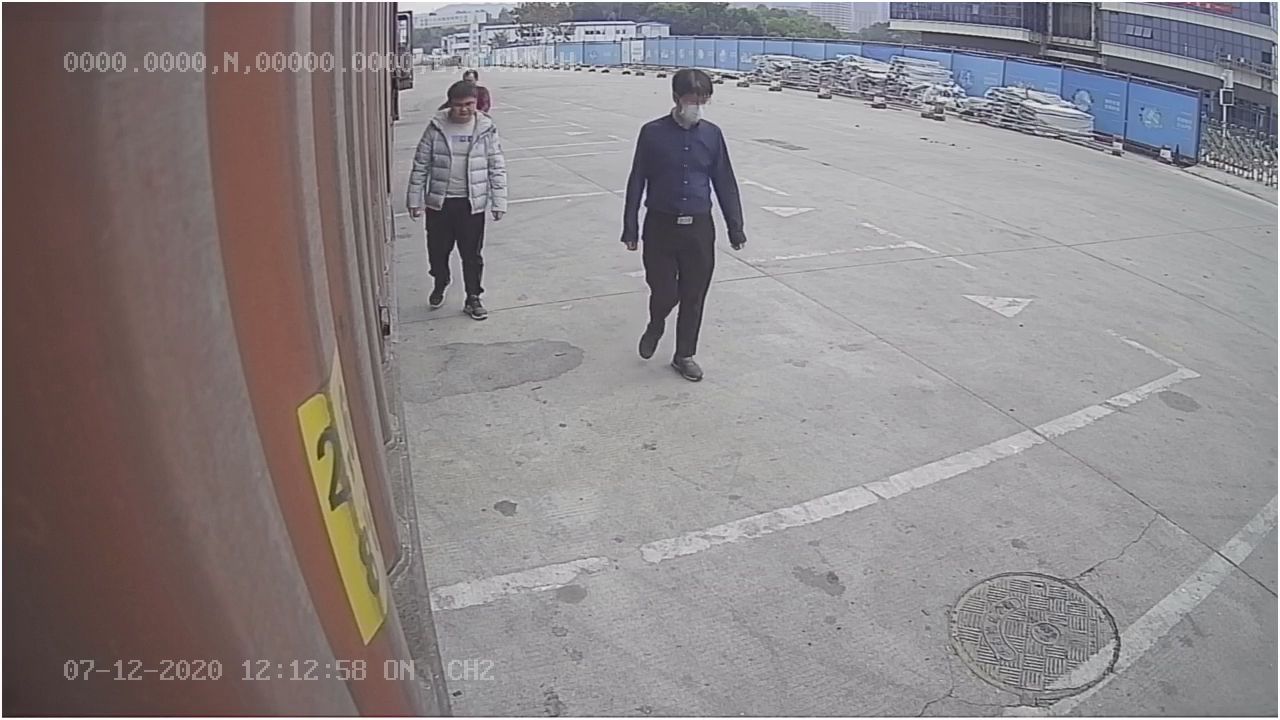person: (622, 54, 749, 382)
